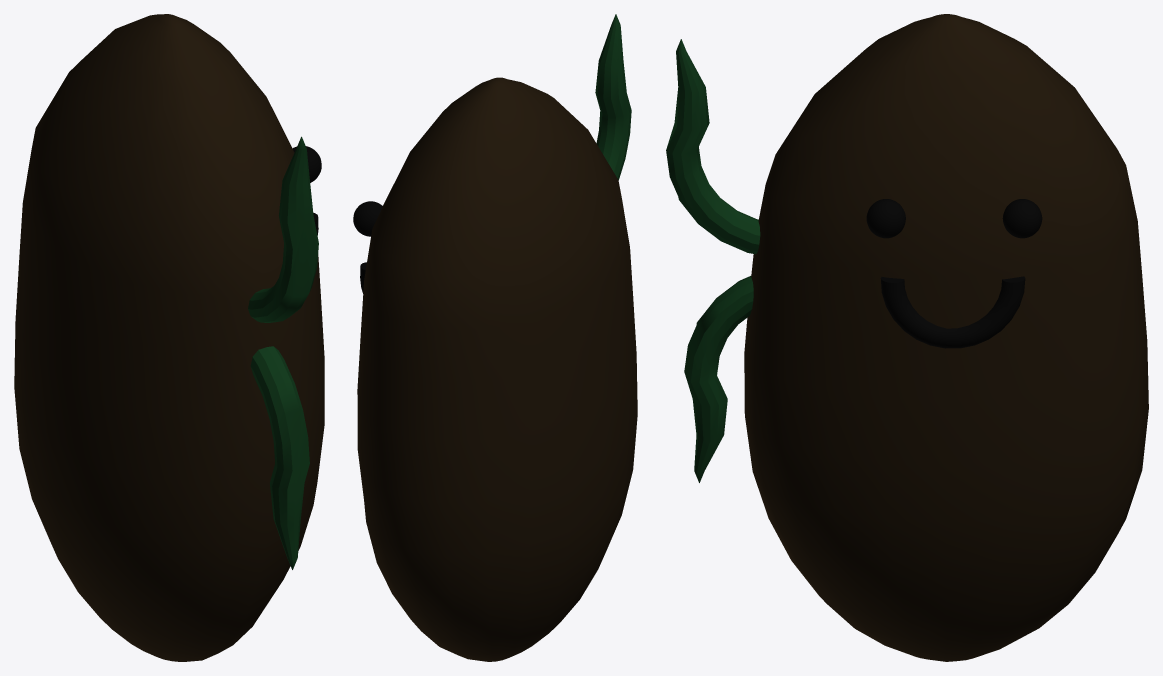
The model's file is seed.obj.
The picture shows the model from 3 angles, left to right: view 1: azimuth 30°, elevation 25°; view 2: azimuth 150°, elevation 25°; view 3: azimuth 270°, elevation 25°; orthographic projection. The views are drawn at different scales.
Parts seen in each view (by area): view 1: pSphere1, pCylinder3, pCylinder2; view 2: pSphere1, pCylinder2, pSphere3; view 3: pSphere1, pCylinder2, pCylinder3, pCylinder4, pSphere2, pSphere3.
Part boxes in pixels (box(x1,y1,x2,y2)): pSphere1: box(14, 14, 324, 661); pCylinder3: box(250, 346, 309, 569); pCylinder2: box(248, 136, 318, 322); pSphere1: box(357, 77, 637, 661); pCylinder2: box(595, 14, 631, 180); pSphere3: box(353, 201, 382, 236); pSphere1: box(744, 14, 1148, 661); pCylinder2: box(666, 39, 760, 254); pCylinder3: box(684, 276, 753, 482); pCylinder4: box(880, 276, 1025, 348); pSphere2: box(866, 199, 905, 238); pSphere3: box(1002, 199, 1042, 238).
Size of the model in its own units: 1.45 by 3.68 by 2.49.
